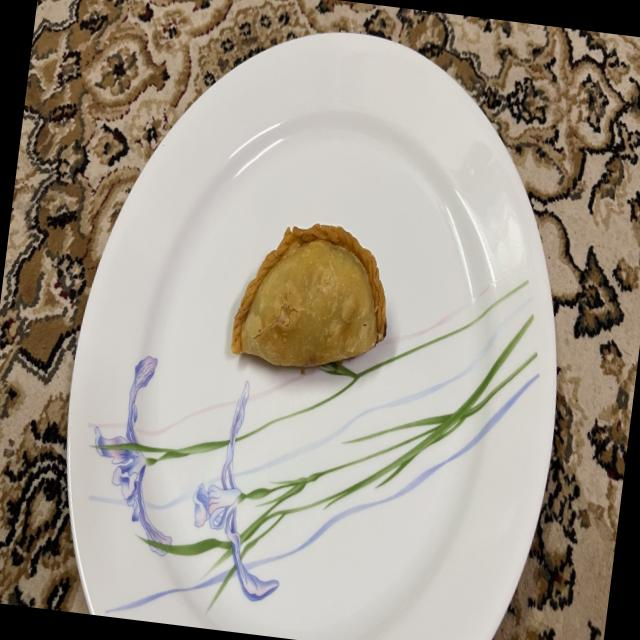karipap: (231, 223, 386, 369)
